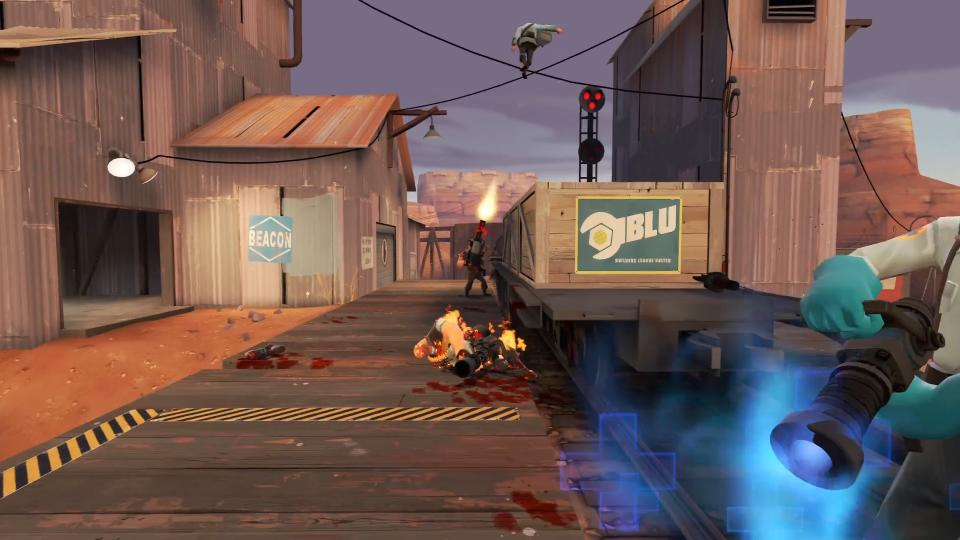Enemy: (767, 214, 960, 540), (412, 309, 539, 383), (456, 219, 494, 299), (512, 22, 564, 80)
